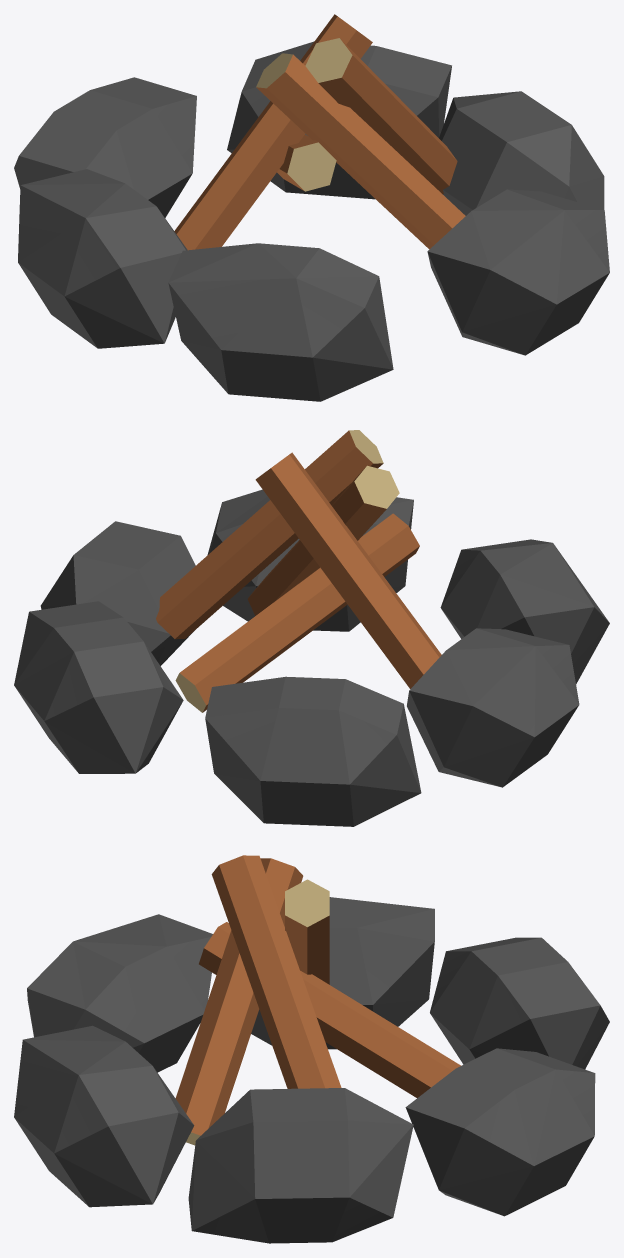
Rendered from LowPoly_Campfire.fbx.
3 renders of one model, top to bottom at view 1: azimuth 30°, elevation 25°; view 2: azimuth 150°, elevation 25°; view 3: azimuth 270°, elevation 25°, orthographic. The views are drawn at different scales.
Visible parts, largest first — view 1: LowPoly_Campfire; view 2: LowPoly_Campfire; view 3: LowPoly_Campfire.
Boxes of the visible parts, x1,y1,x2,y2 form: LowPoly_Campfire: [14, 14, 609, 401]; LowPoly_Campfire: [14, 430, 609, 826]; LowPoly_Campfire: [14, 855, 609, 1243].
Bounding box in the file's own units: 193 × 94.36 × 187.
